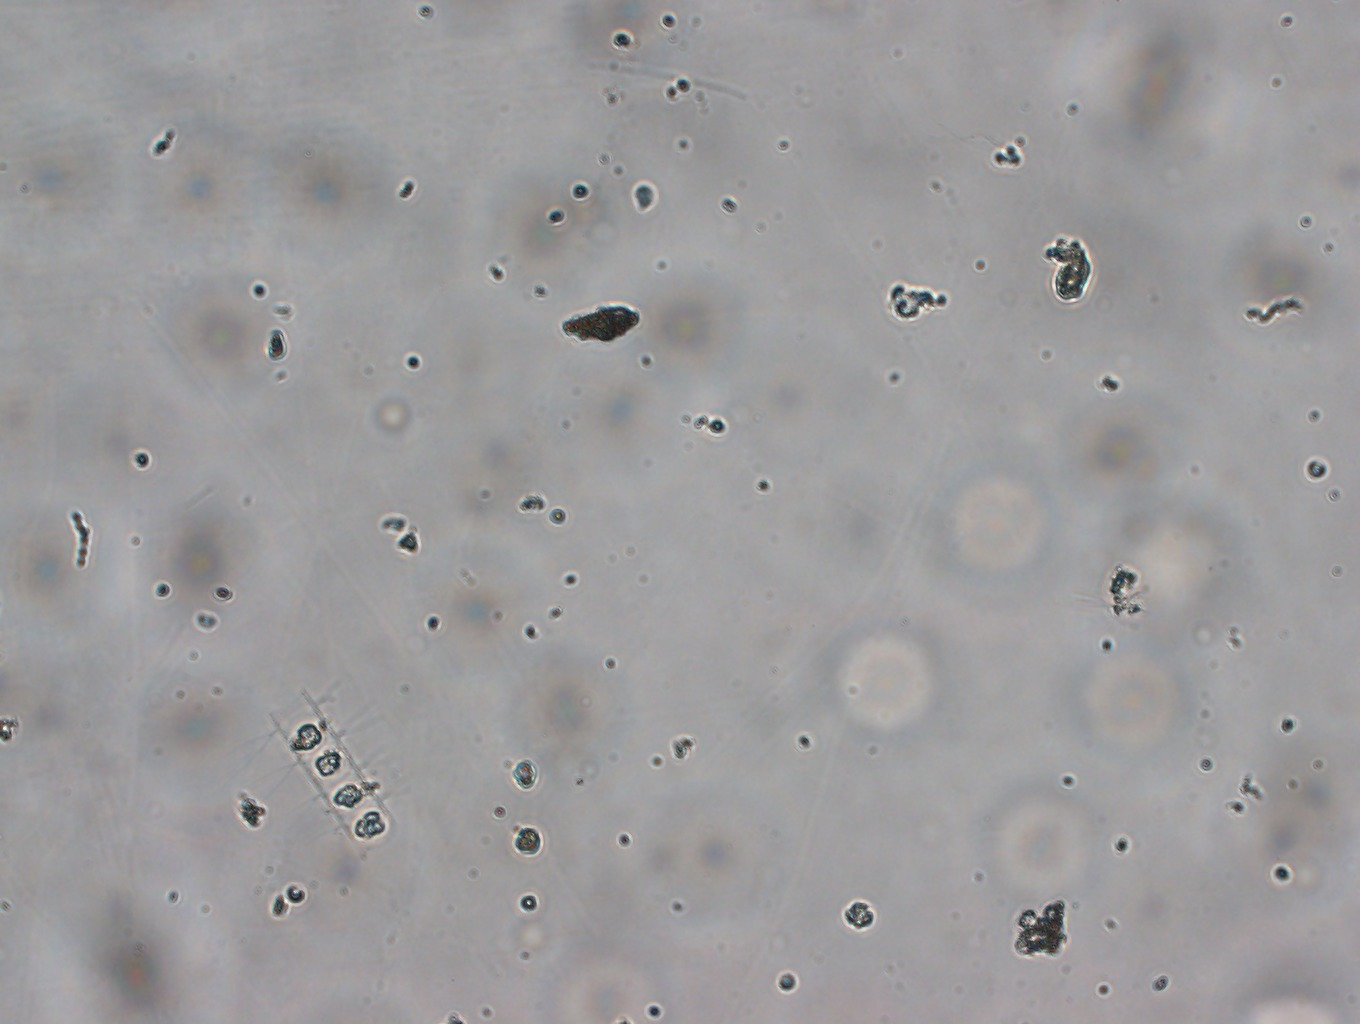chaetoceros: (254, 674, 412, 881)
